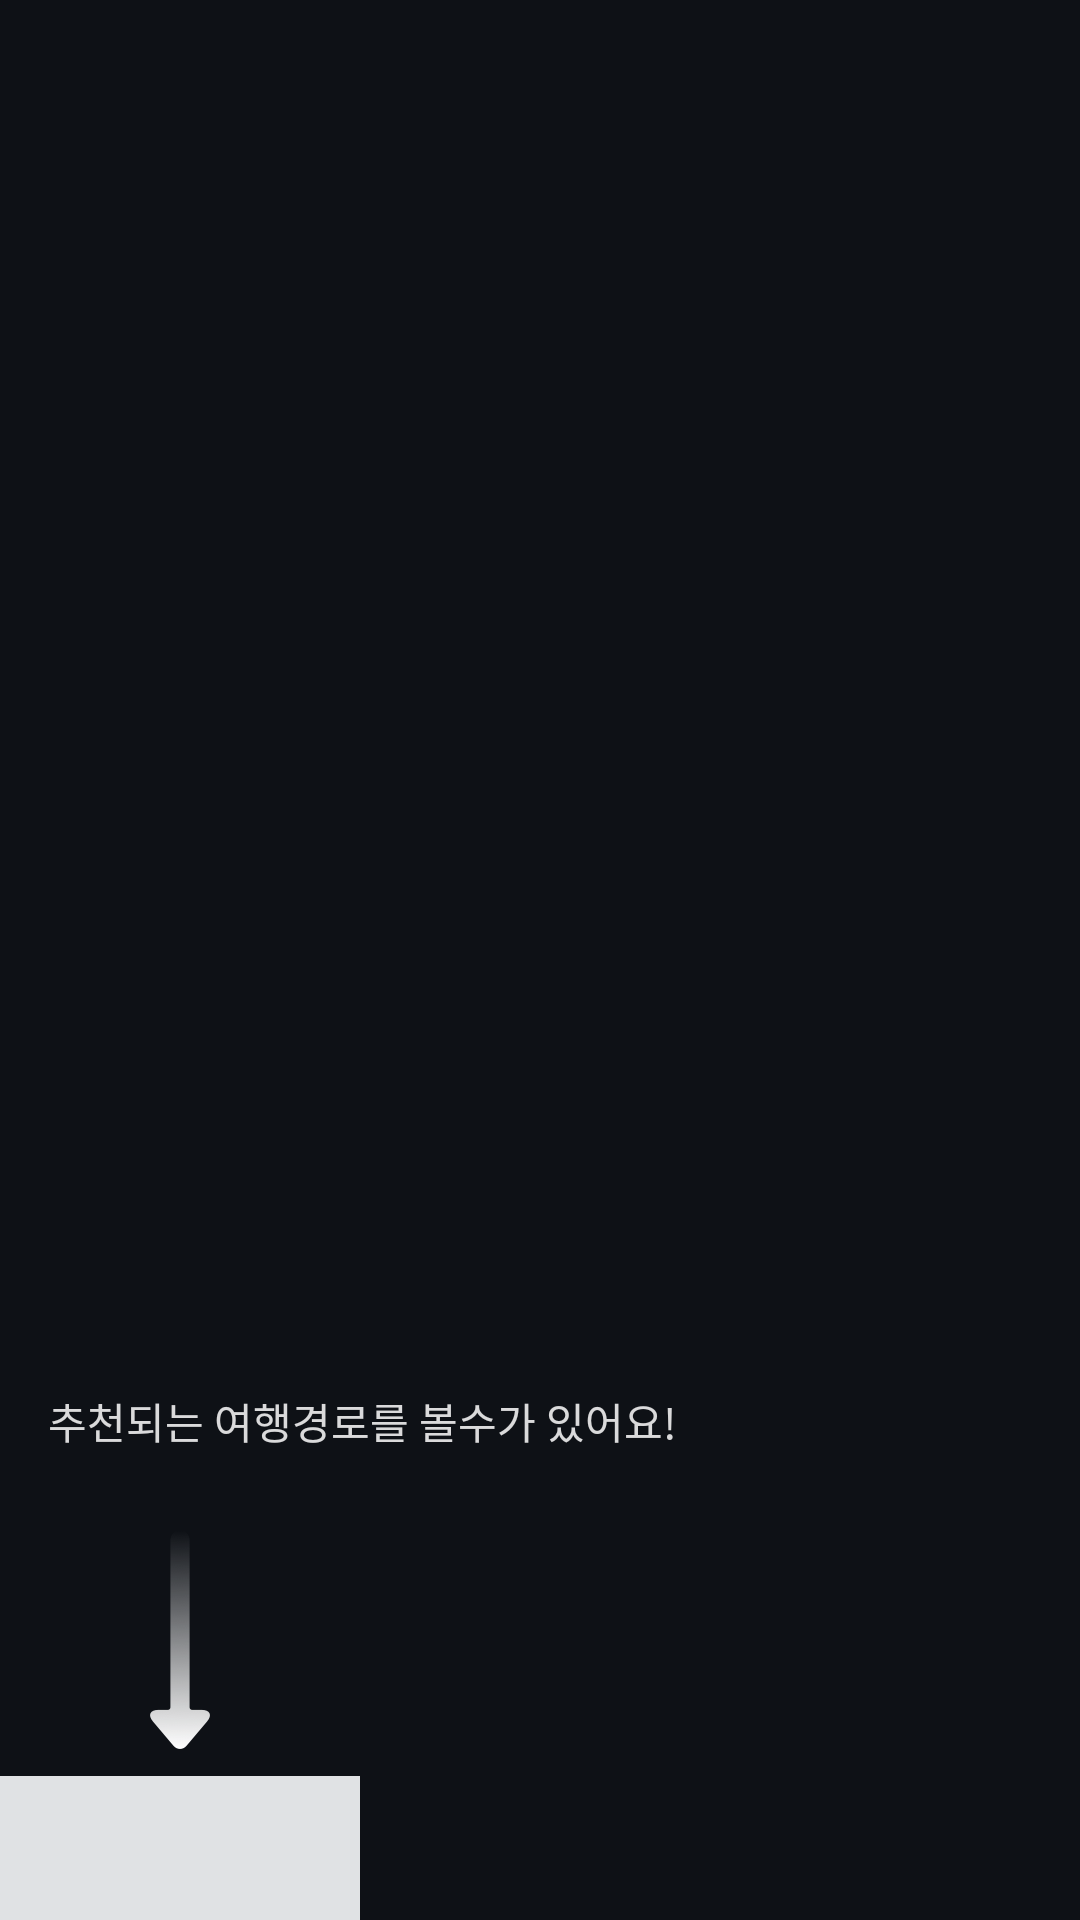

Icons on this 1080w x 1920h Android screen, each with the point to tap as (x,y):
coachmark: (180,1650)
